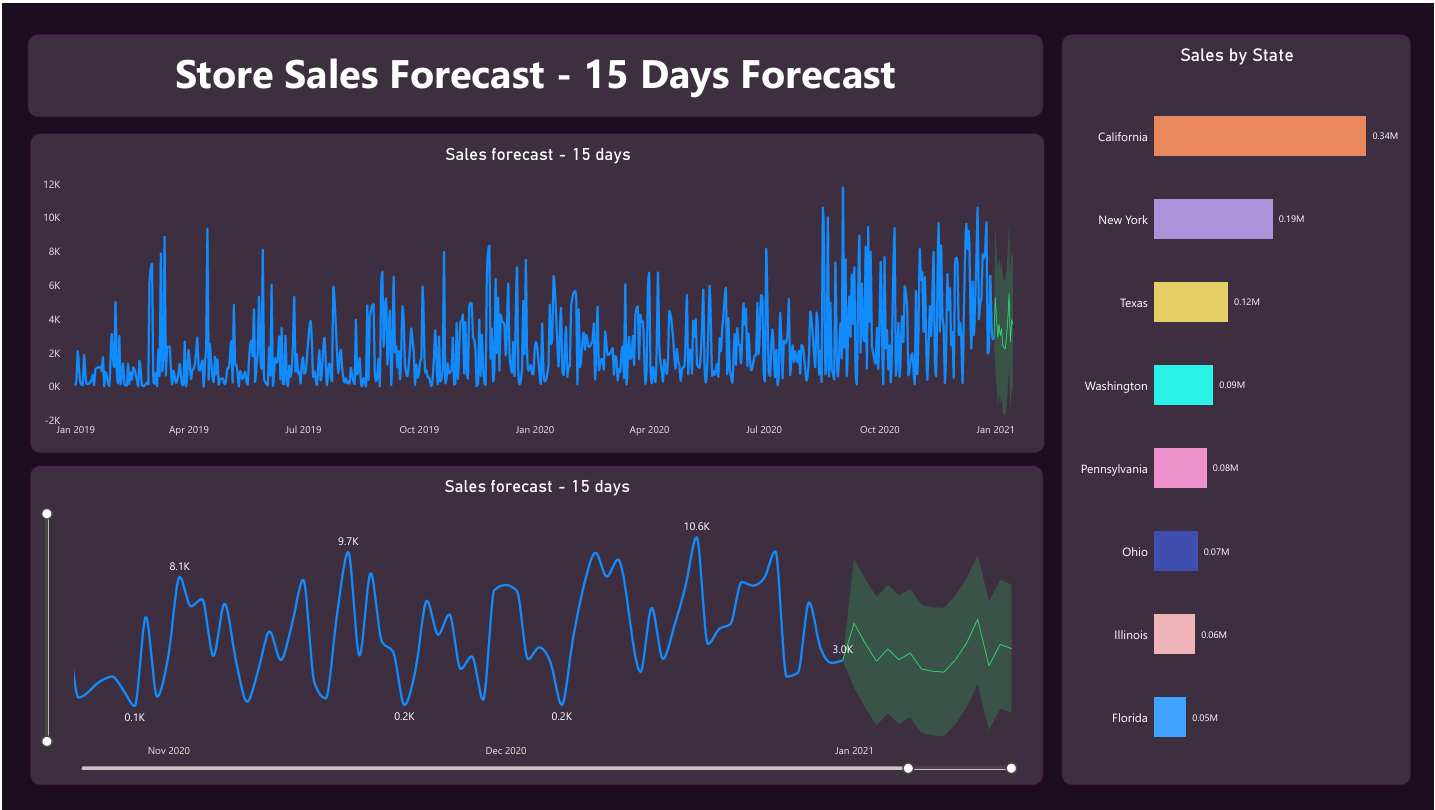

The dashboard page shown, as its layout file describes it:
{"tool":"powerbi","page":{"name":"Page 2","canvas":[1920,1080],"ordinal":1},"visuals":[{"type":"lineChart","title":"Sales forecast - 15 days","fields":{"Category":["Sheet1.Order Date"],"Y":["Sum(Sheet1.Sales)"]},"box":[35.5,618.2,1359.5,428.7],"z":0},{"type":"lineChart","title":"Sales forecast - 15 days","fields":{"Category":["Sheet1.Order Date"],"Y":["Sum(Sheet1.Sales)"]},"box":[35.5,172.9,1361.9,428.7],"z":1},{"type":"textbox","box":[33.2,40.3,1361.9,111.3],"z":2},{"type":"clusteredBarChart","title":"Sales by State","fields":{"Category":["Sheet1.State"],"Y":["Sum(Sheet1.Sales)"]},"box":[1418.7,40.3,469,1006.6],"z":3}]}

Visuals, with their boxes in screenshot pixels (x1, y1, x2, y2), scaled from the page's 1920x1080 canvas onto the 1435x810 screenshot:
"Sales forecast - 15 days" lineChart: 27/464/1043/785
"Sales forecast - 15 days" lineChart: 27/130/1044/451
textbox: 25/30/1043/114
"Sales by State" clusteredBarChart: 1060/30/1411/785
